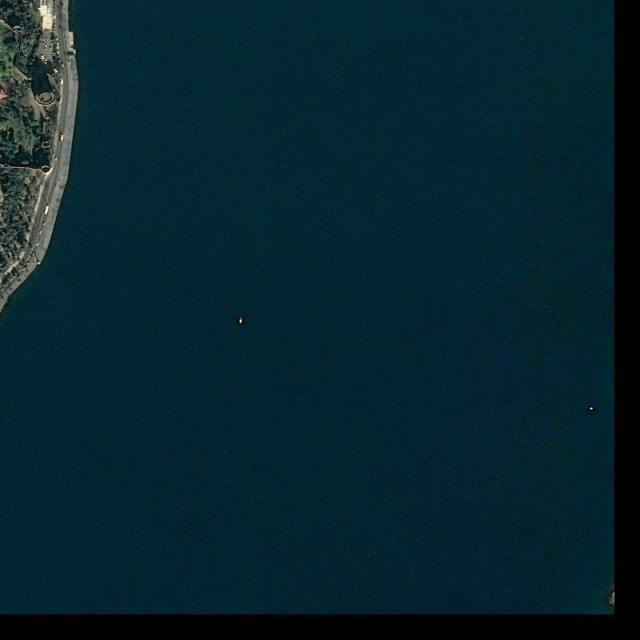ship: (238, 318, 243, 325)
